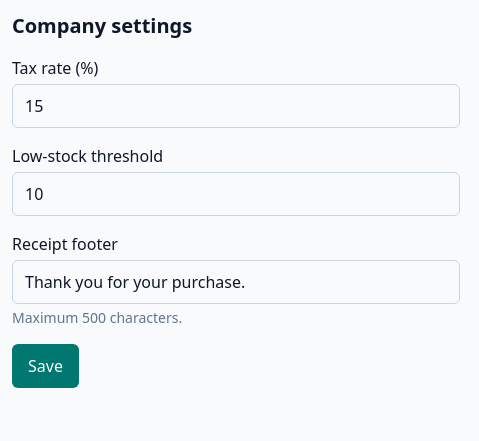
it: SettingsPage › shows forbidden on PATCH 403 in English
This screenshot has width=479, height=441.
Expected: the heading "Company settings" is shown, left=12, top=12, right=192, bottom=39
Step 1. Replace the text in the number field labelled "Tax rate (%)" with "20" → {"x": 236, "y": 106}, box left=12, top=84, right=460, bottom=128
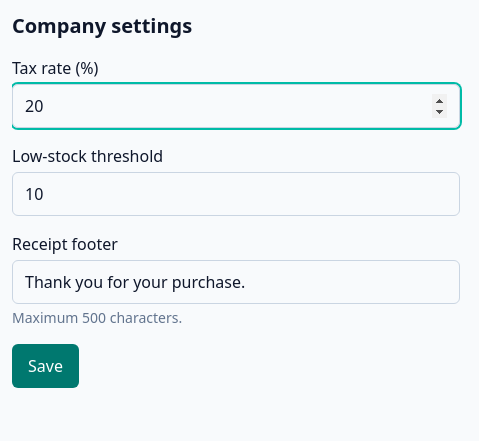
Step 2. Click the button "Save" → {"x": 45, "y": 366}, box left=12, top=344, right=79, bottom=388
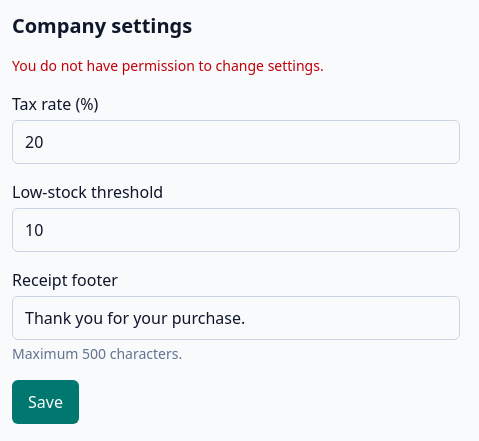
Result: the message reads "You do not have permission to change settings." at left=12, top=56, right=324, bottom=75
